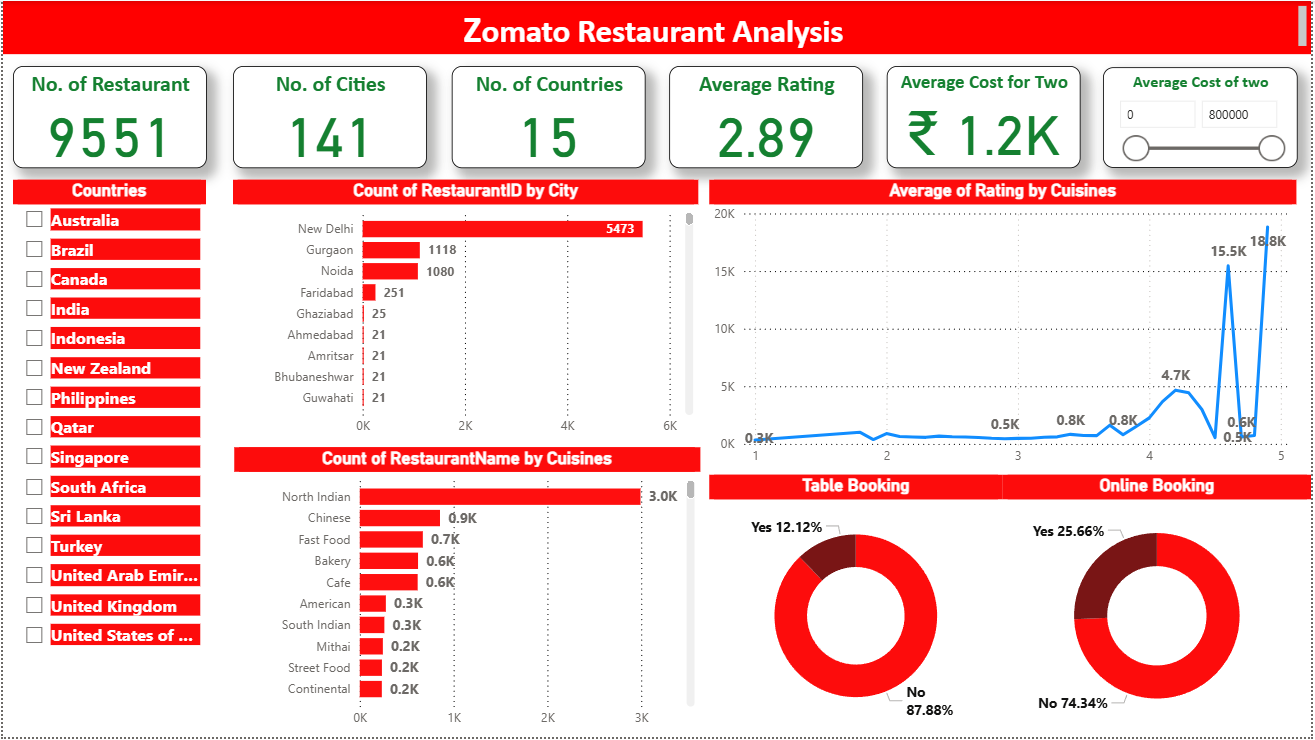

Layout of this report page (visuals, bound fields, positions):
{"tool":"powerbi","page":{"name":"ZomatoDB","canvas":[1280,720],"ordinal":0},"visuals":[{"type":"textbox","box":[0,0,1280.3,52.1],"z":0},{"type":"card","title":"No. of Restaurant","fields":{"Values":["Count(Sheet1.RestaurantID)"]},"box":[9.6,63.1,189.4,100.2],"z":1000},{"type":"card","title":"No. of Cities","fields":{"Values":["Count(Sheet1.City)"]},"box":[225,63.1,189.4,100.2],"z":2000},{"type":"card","title":"No. of Countries","fields":{"Values":["Count(Sheet1.CountryCode)"]},"box":[439.1,63.1,189.4,100.2],"z":3000},{"type":"card","title":"Average Rating","fields":{"Values":["Avg(Sheet1.Rating)"]},"box":[651.8,63.1,189.4,100.2],"z":4000},{"type":"card","title":"Average Cost for Two","fields":{"Values":["Avg(Sheet1.Average_Cost_for_two)"]},"box":[864.5,63.1,189.4,100.2],"z":5000},{"type":"slicer","title":"Average Cost of two","fields":{"Values":["Sheet1.Average_Cost_for_two"]},"box":[1075.7,64.3,190,98.6],"z":6000},{"type":"slicer","title":"Countries","fields":{"Values":["Sheet2.country name"]},"box":[10,174.3,188.6,468.6],"z":7000},{"type":"barChart","fields":{"Y":["CountNonNull(Sheet1.RestaurantID)"],"Category":["Sheet1.City"]},"box":[225,174.3,455.6,259.3],"z":8000},{"type":"barChart","title":"Count of RestaurantName by Cuisines","fields":{"Y":["CountNonNull(Sheet1.RestaurantName)"],"Category":["Sheet1.Cuisines 1"]},"box":[225.7,437.1,455.7,282.9],"z":9000},{"type":"lineChart","title":"Average of Rating by Cuisines","fields":{"Category":["Sheet1.Rating"],"Y":["Avg(Sheet1.Average_Cost_for_two)"]},"box":[691.4,174.3,574.3,288.6],"z":10000},{"type":"donutChart","title":"Table Booking","fields":{"Category":["Sheet1.Has_Table_booking"],"Y":["CountNonNull(Sheet1.RestaurantName)"]},"box":[691.4,462.9,287.1,257.1],"z":11000},{"type":"donutChart","title":"Online Booking","fields":{"Y":["CountNonNull(Sheet1.RestaurantName)"],"Series":["Sheet1.Has_Online_delivery"]},"box":[978.6,462.9,301.4,257.1],"z":12000}]}

Visuals, with their boxes in screenshot pixels (x1, y1, x2, y2), scaled from the page's 1280x720 canvas onto the 1315x740 screenshot:
textbox: {"left": 0, "top": 0, "right": 1314, "bottom": 54}
"No. of Restaurant" card: {"left": 10, "top": 65, "right": 204, "bottom": 168}
"No. of Cities" card: {"left": 231, "top": 65, "right": 426, "bottom": 168}
"No. of Countries" card: {"left": 451, "top": 65, "right": 646, "bottom": 168}
"Average Rating" card: {"left": 670, "top": 65, "right": 864, "bottom": 168}
"Average Cost for Two" card: {"left": 888, "top": 65, "right": 1083, "bottom": 168}
"Average Cost of two" slicer: {"left": 1105, "top": 66, "right": 1300, "bottom": 167}
"Countries" slicer: {"left": 10, "top": 179, "right": 204, "bottom": 661}
barChart - CountNonNull(Sheet1.RestaurantID) x Sheet1.City: {"left": 231, "top": 179, "right": 699, "bottom": 446}
"Count of RestaurantName by Cuisines" barChart: {"left": 232, "top": 449, "right": 700, "bottom": 739}
"Average of Rating by Cuisines" lineChart: {"left": 710, "top": 179, "right": 1300, "bottom": 476}
"Table Booking" donutChart: {"left": 710, "top": 476, "right": 1005, "bottom": 739}
"Online Booking" donutChart: {"left": 1005, "top": 476, "right": 1314, "bottom": 739}
